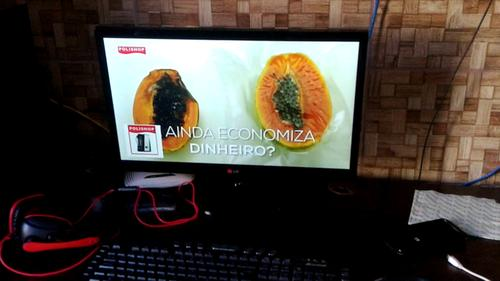Polishop #1: (123, 124, 164, 159)
